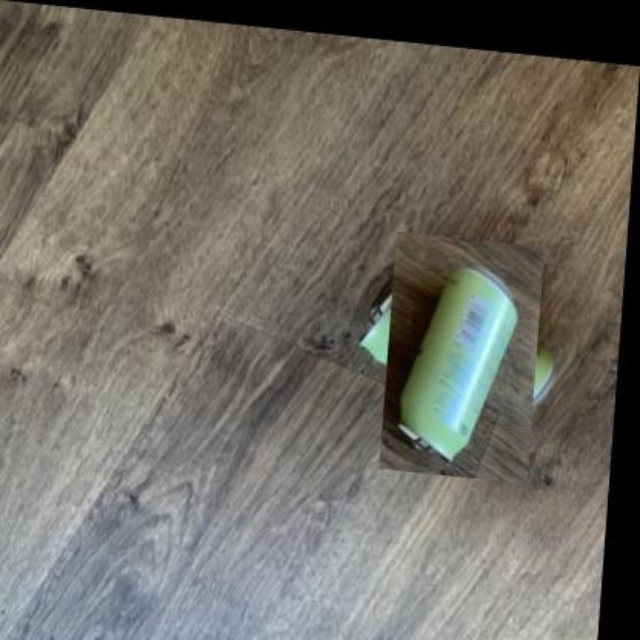trash: (398, 269, 515, 458)
